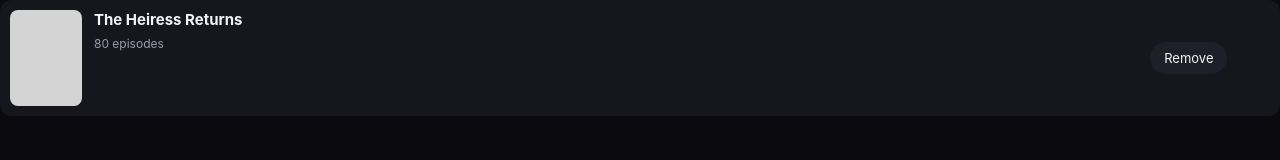
Test case: a favourite write that failed › leaves the row followed when the un-follow was refused, rather than claiming it worked
The image size is (1280, 160).
Click the button with test id "favorite-remove": (1189, 58) [1150,42,1227,74]
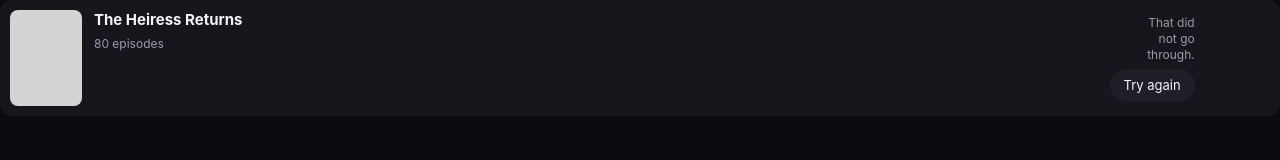
Expected: the message "That did not go through." is shown, [1147,15,1195,62]
